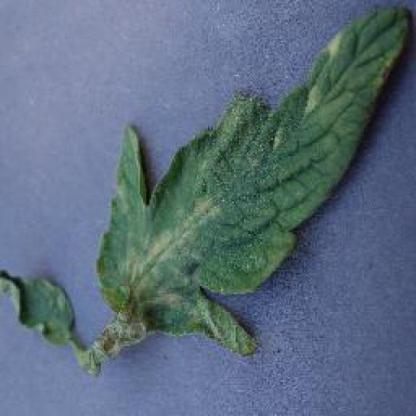Tomato_Leaf_Mold: (0, 5, 412, 358)
